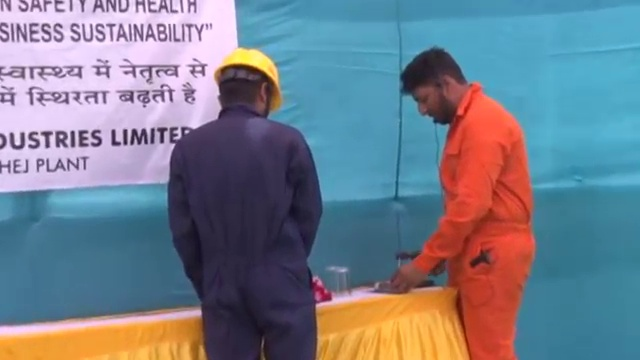helmet: (214, 45, 283, 110)
helmet_off: (399, 44, 470, 127)
helmet_on: (212, 44, 284, 119)
person: (163, 45, 322, 360), (387, 44, 537, 360)
